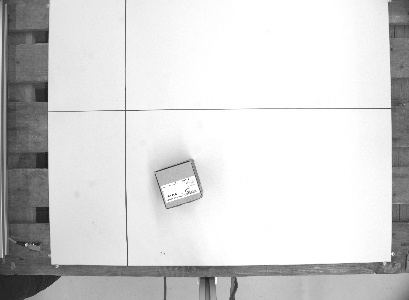b7: (150, 157, 206, 209)
